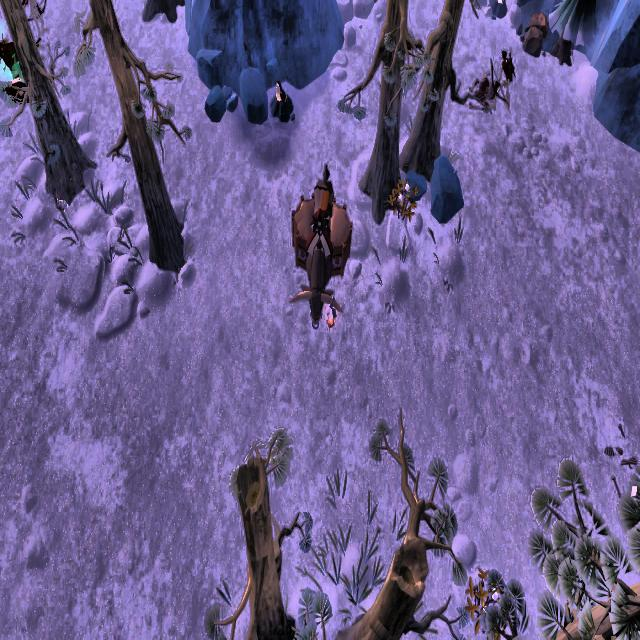enemy_factionUndead: (0, 33, 35, 101), (490, 47, 516, 111), (22, 0, 47, 24)
